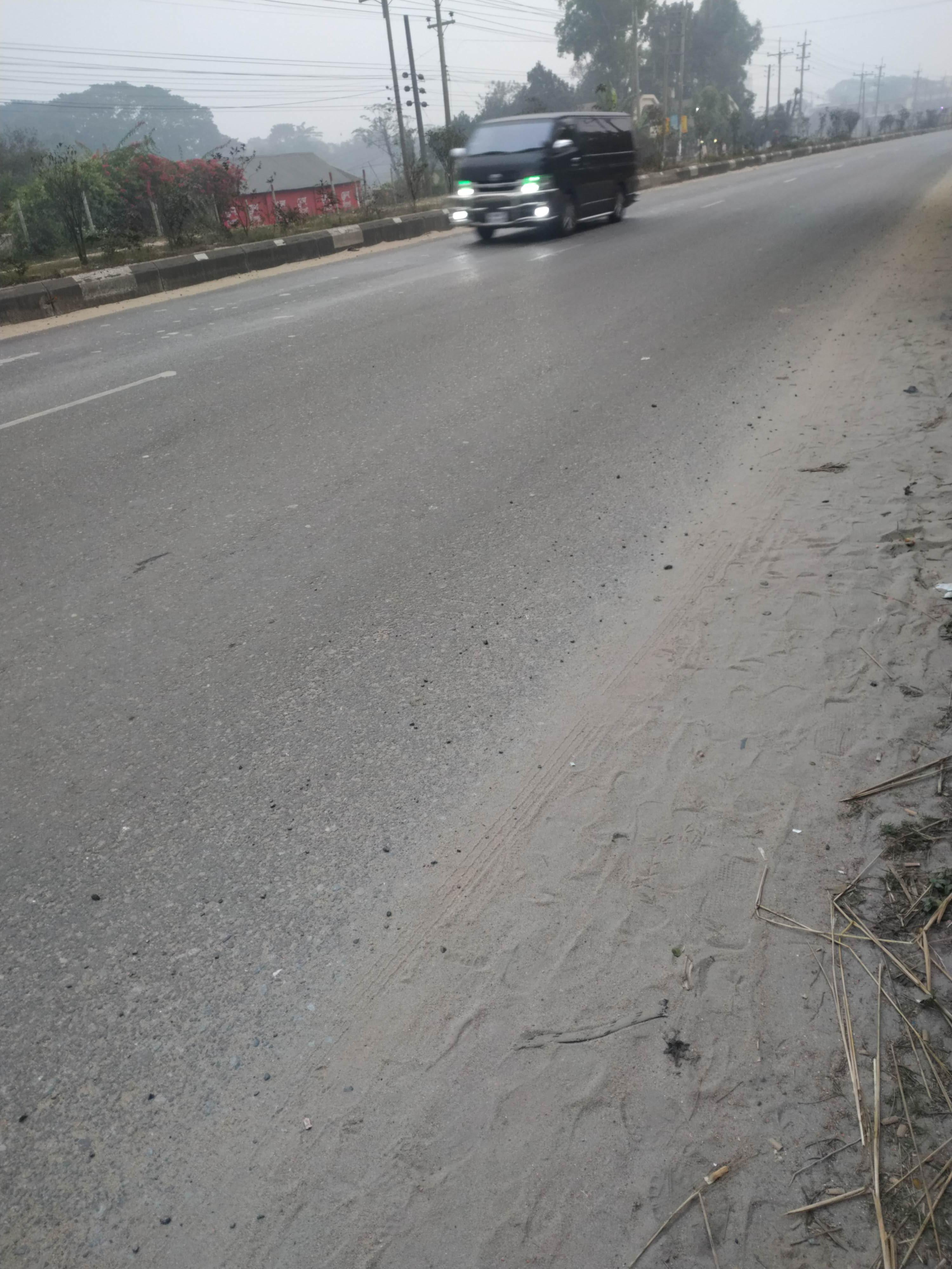Car: (427, 84, 686, 264)
